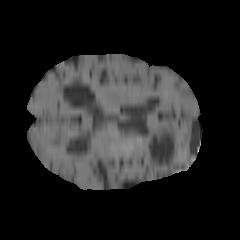glioma: (126, 117, 182, 171)
